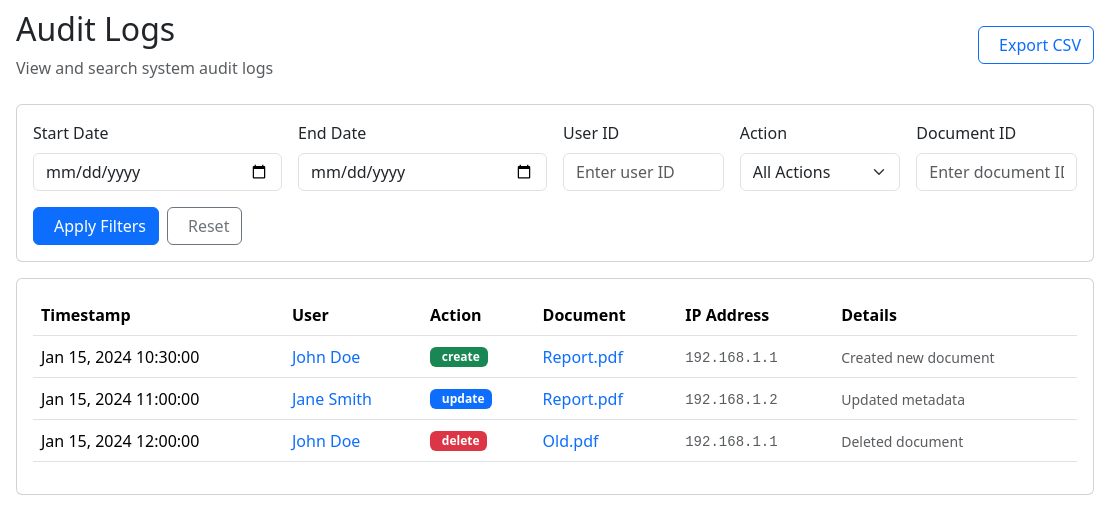
Test: AuditLogPage Integration Tests › Filtering › should reset filters when reset button is clicked
This screenshot has width=1111, height=512.
Expected: the button "John Doe" next to "Jan 15, 2024 10:30:00" is shown, [292,346,360,368]
Apply some filters first
Type "100" into the field labelled "User ID" at (643, 172), box [563,153,724,191]
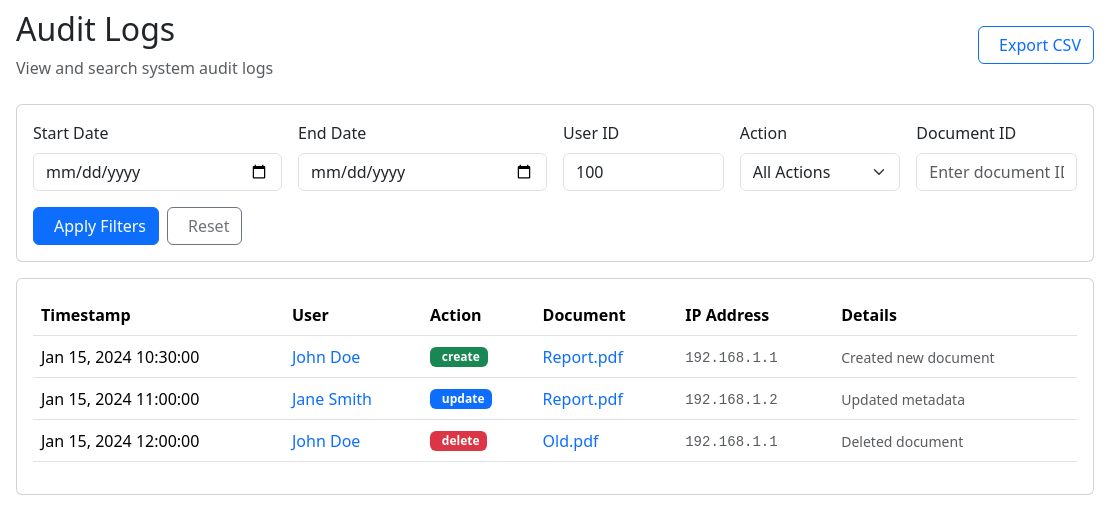
Click Reset button
Click the button "Reset" at (205, 226), box [167,207,242,245]
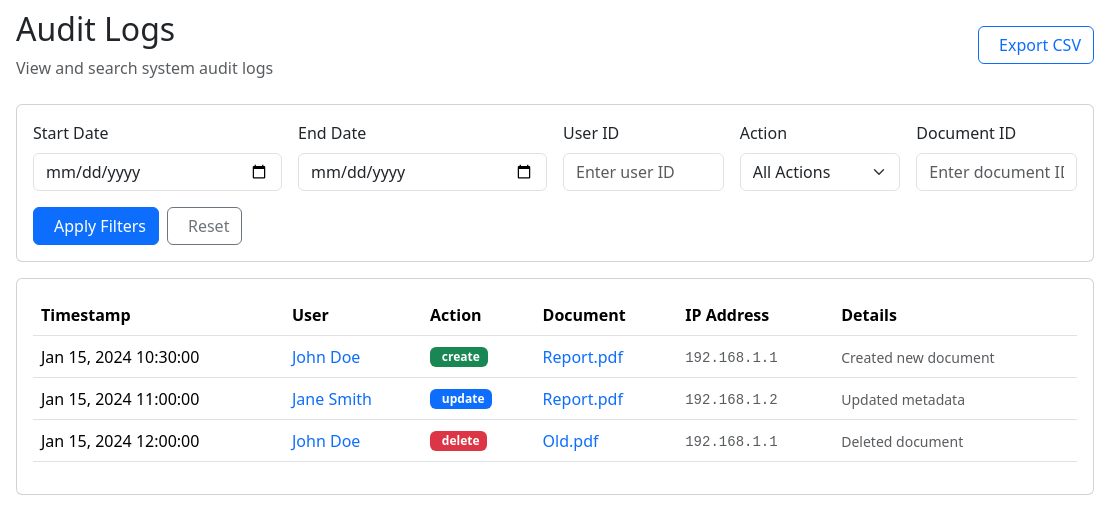
Now the field labelled "User ID" is empty, box [563,153,724,191]
